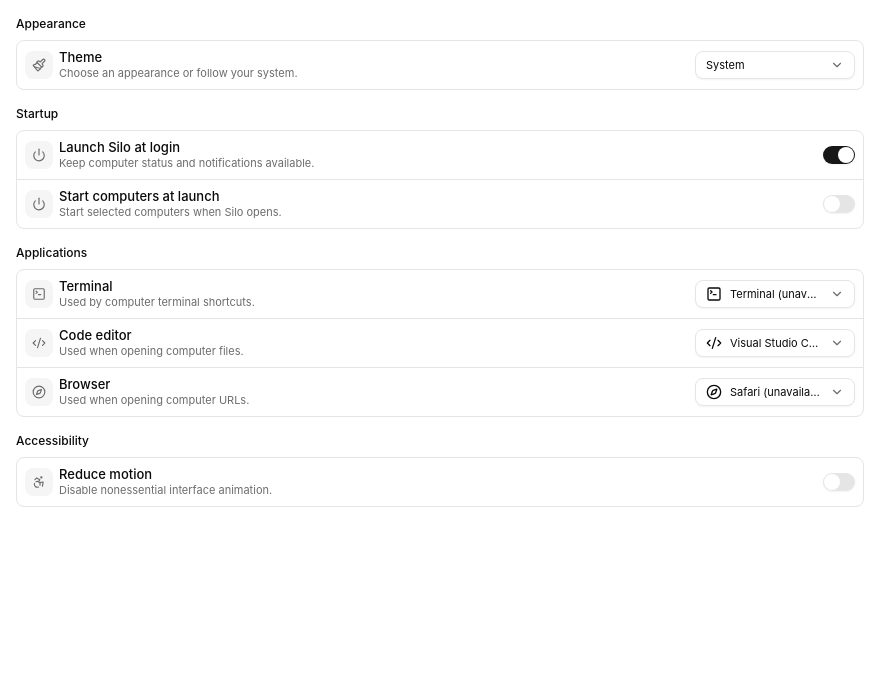
Test: reports unsaved preferences and retries delivery without losing the selection
The image size is (881, 691).
Click the switch named "Start computers at launch" at (839, 204), box x1=823 y1=195 x2=855 y2=213
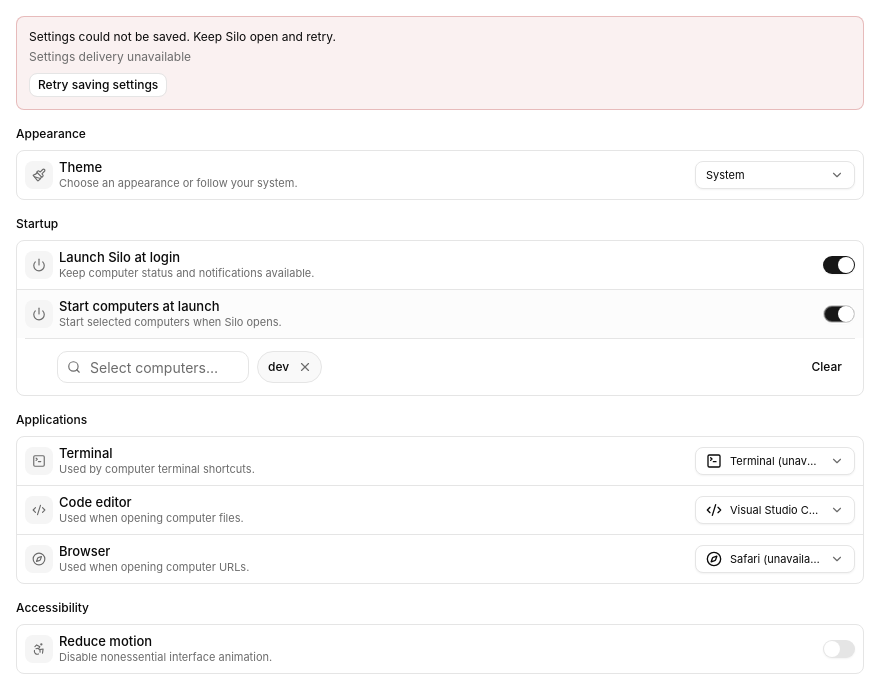
expect the switch named "Start computers at launch" is checked: met, box x1=823 y1=305 x2=855 y2=323
expect the message shows "Settings could not be saved": met, box x1=29 y1=29 x2=336 y2=44
Click the button "Retry saving settings" at (98, 85), box x1=29 y1=73 x2=167 y2=97
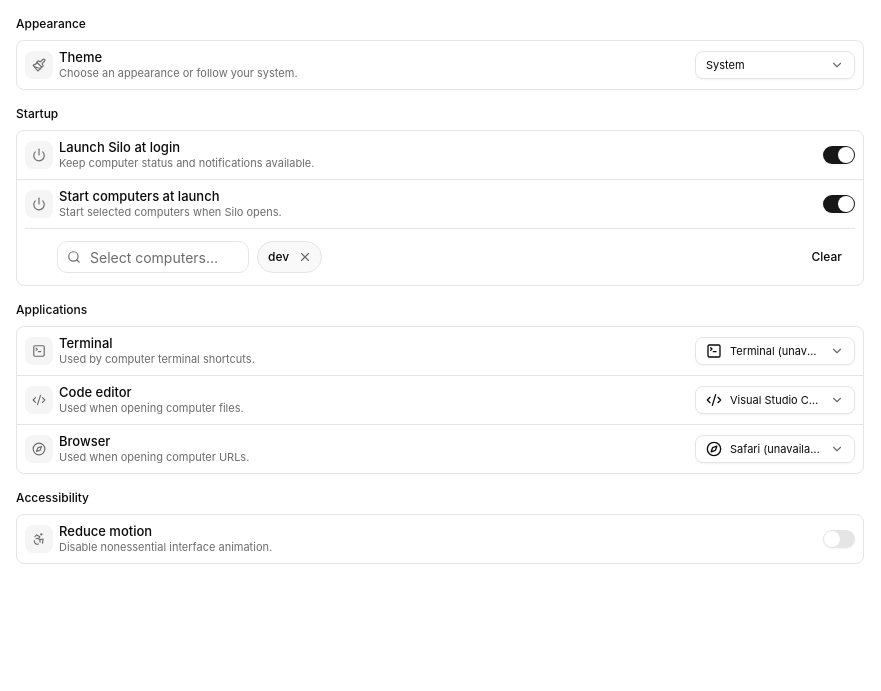
expect the message is gone: met
